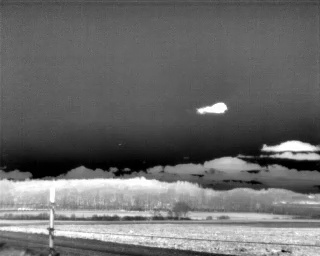DRONE: (193, 96, 230, 119)
